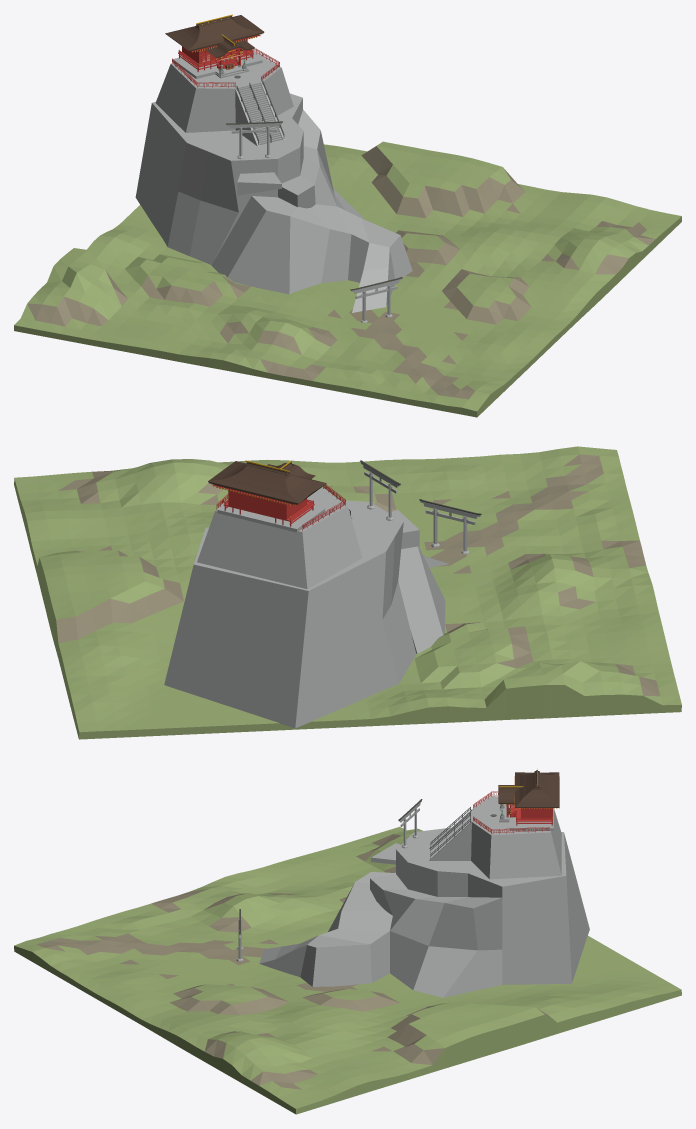
The model's file is 02level.fbx.
3 views of the same model, one above another, from view 1: azimuth 30°, elevation 25°; view 2: azimuth 150°, elevation 25°; view 3: azimuth 270°, elevation 25° (orthographic). The views are drawn at different scales.
Visible parts, largest first — view 1: Plane, Ground.002, Ground, 02_Musashi_Mitake, Stairs, Torii.001, Torii, Ground.001; view 2: Plane, Ground.002, Ground, 02_Musashi_Mitake, Torii.001, Torii; view 3: Plane, Ground.002, Ground, 02_Musashi_Mitake, Ground.001.
Part boxes in pixels (box(x1,y1,x2,y2)): Plane: box(14, 141, 681, 417); Ground.002: box(135, 93, 412, 312); Ground: box(155, 51, 293, 132); 02_Musashi_Mitake: box(165, 14, 264, 78); Stairs: box(239, 84, 282, 145); Torii.001: box(350, 277, 402, 322); Torii: box(226, 121, 282, 158); Ground.001: box(235, 82, 285, 146); Plane: box(14, 446, 681, 739); Ground.002: box(164, 500, 449, 728); Ground: box(197, 488, 362, 589); 02_Musashi_Mitake: box(208, 460, 326, 532); Torii.001: box(419, 499, 481, 554); Torii: box(360, 460, 400, 520); Plane: box(14, 826, 681, 1114); Ground.002: box(259, 827, 589, 997); Ground: box(471, 796, 561, 879); 02_Musashi_Mitake: box(498, 768, 559, 830); Ground.001: box(429, 809, 471, 860).
Size of the model in its own units: 24873 by 7453 by 24872.
